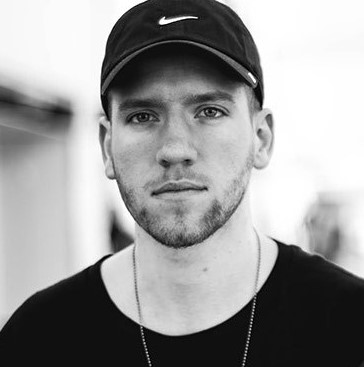BOY: (97, 65, 275, 243)
